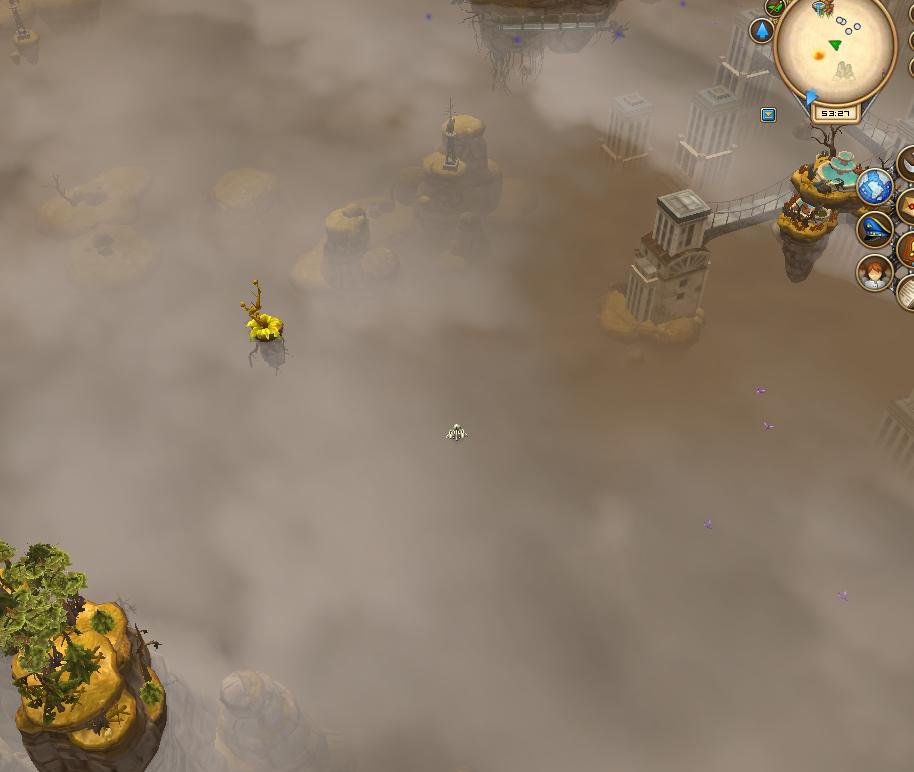dandelion-empty: (234, 277, 292, 366)
